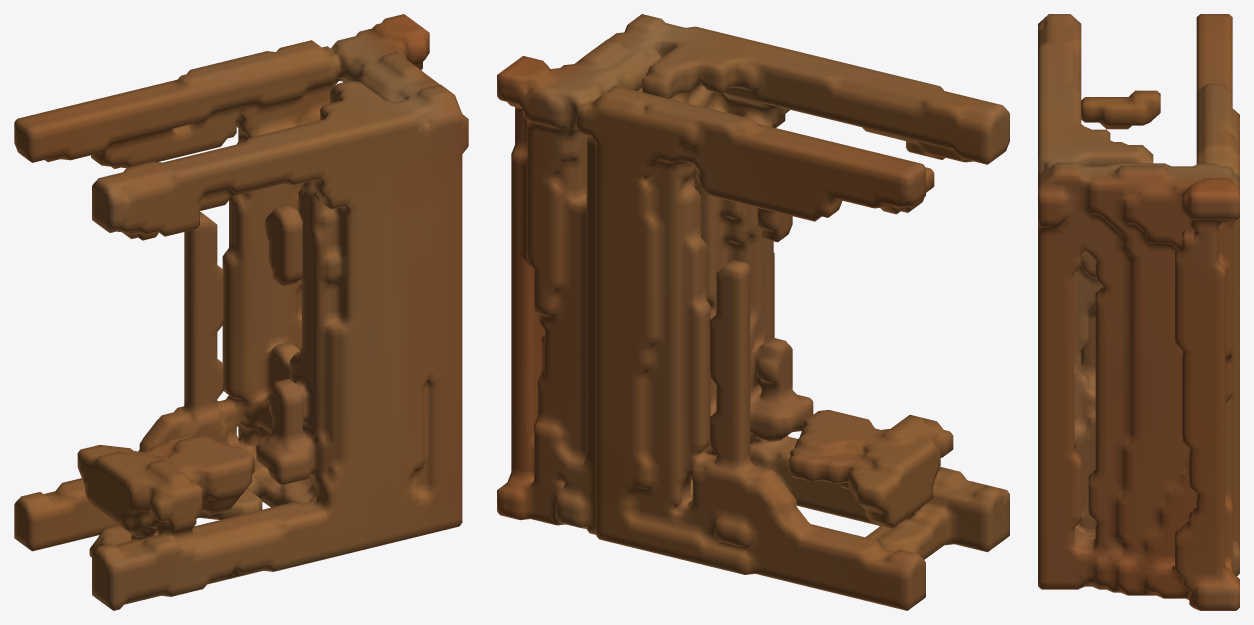
Rendered from Rectangular, light brown wood desk with hutch, dra.glb.
3 renders of one model, left to right at view 1: azimuth 30°, elevation 25°; view 2: azimuth 150°, elevation 25°; view 3: azimuth 270°, elevation 25°, orthographic. The views are drawn at different scales.
Parts seen in each view (by area): view 1: Rectangular, light brown wood desk with hutch, dra; view 2: Rectangular, light brown wood desk with hutch, dra; view 3: Rectangular, light brown wood desk with hutch, dra.
Boxes of the visible parts, box(x1,y1,x2,y2) form: Rectangular, light brown wood desk with hutch, dra: box(14, 14, 468, 610); Rectangular, light brown wood desk with hutch, dra: box(497, 14, 1009, 610); Rectangular, light brown wood desk with hutch, dra: box(1038, 14, 1239, 610).
Size of the model in its own units: 62 by 64 by 28.
